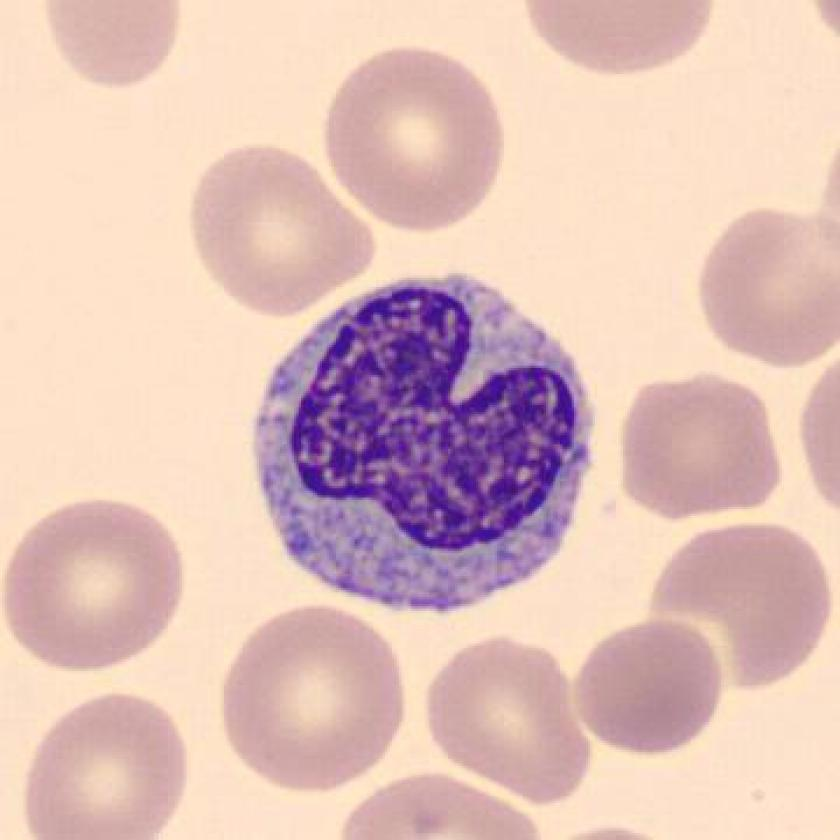monocyte: (235, 253, 613, 635)
